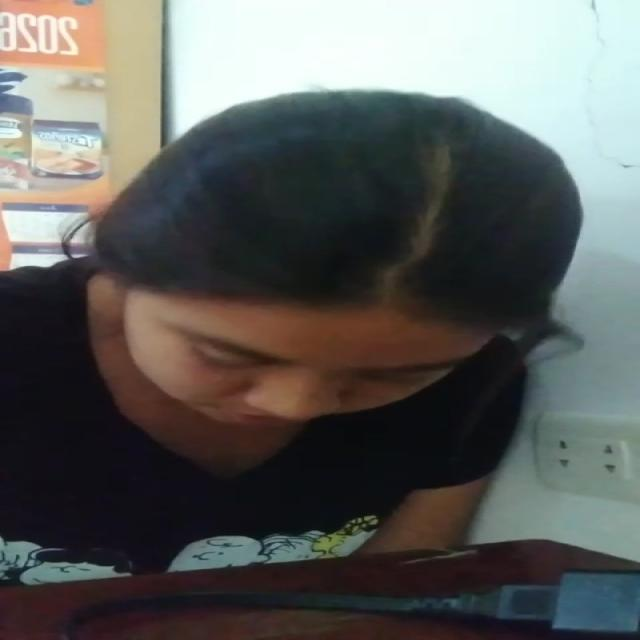9_cabeza_baja: (89, 87, 589, 427)
